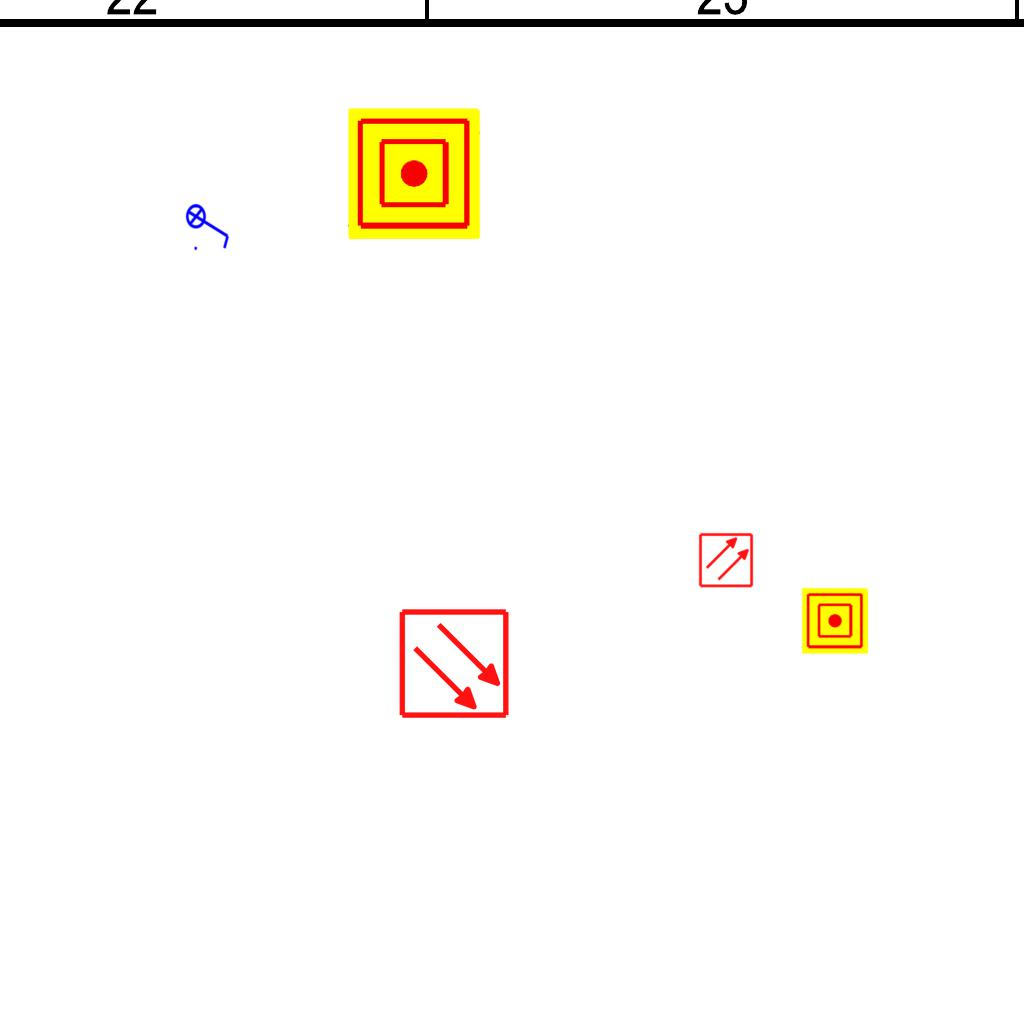Ausschalter_beleuchtet: (185, 197, 233, 253)
NAM-Nichtautomatischer_Melder: (348, 108, 480, 240), (802, 588, 868, 654)
RMO_Rauchmelder_optischer: (398, 607, 511, 720), (698, 532, 754, 588)
